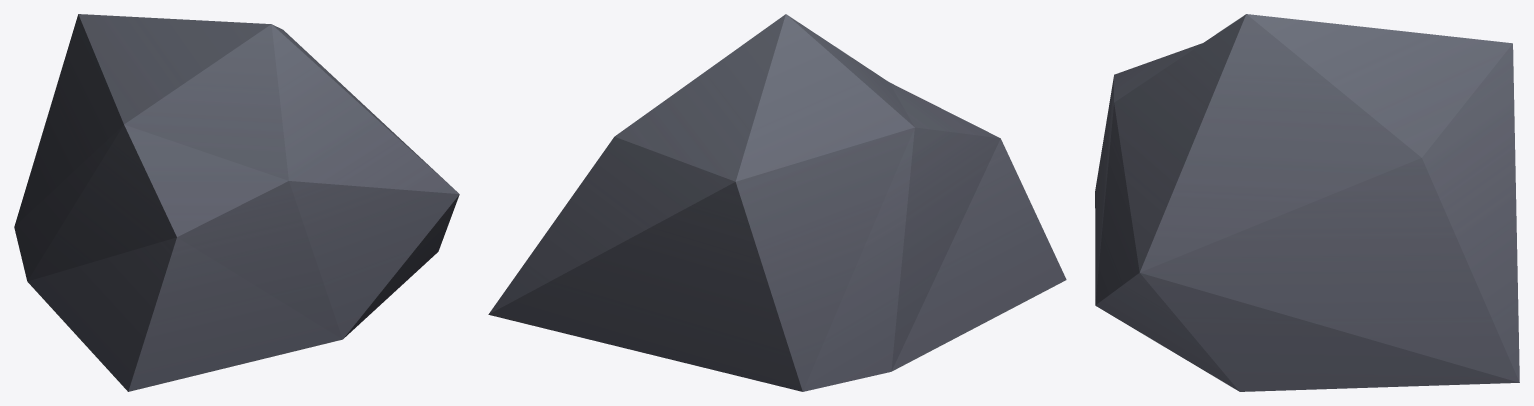
The model's file is Stone.obj.
3 renders of one model, left to right at view 1: azimuth 30°, elevation 25°; view 2: azimuth 150°, elevation 25°; view 3: azimuth 270°, elevation 25°, orthographic. The views are drawn at different scales.
Visible parts, largest first — view 1: Rock_03.004_Cube.105; view 2: Rock_03.004_Cube.105; view 3: Rock_03.004_Cube.105.
Boxes of the visible parts, x1,y1,x2,y2 form: Rock_03.004_Cube.105: (14, 14, 459, 391); Rock_03.004_Cube.105: (488, 14, 1066, 391); Rock_03.004_Cube.105: (1095, 14, 1519, 391).
Bounding box in the file's own units: 2.15 × 1.41 × 1.87.
Materials: 1 (1 with a texture image).
